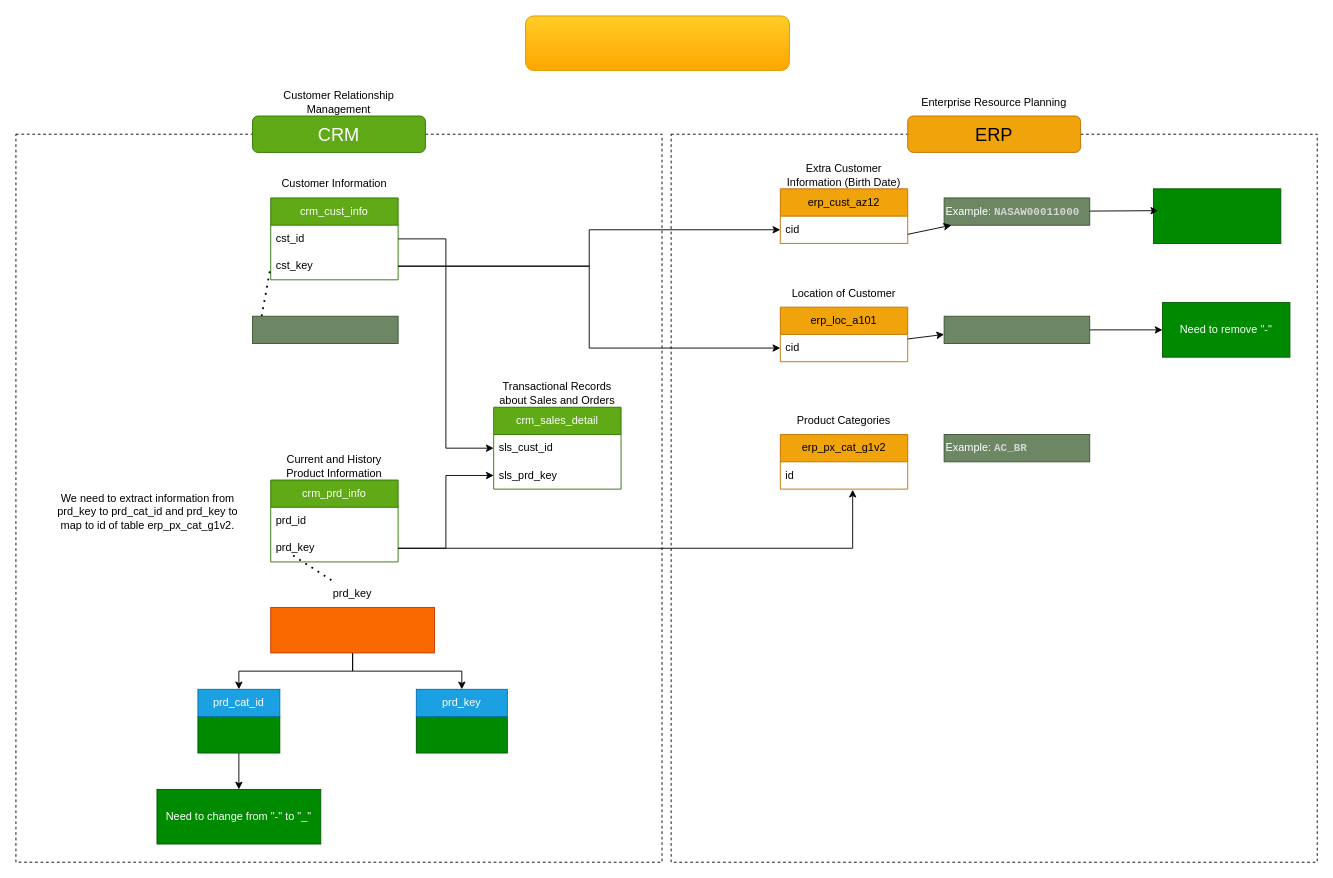
Some shapes in this 1333 by 878 pixel diagram are drawn without their labels. The shapes that lost their labels are listed below. From the top down, each one's centre as x and y in pixels, then its label:
At point 657,43: "Data Integration".
At point 1217,215: "Need to remove NAS".
At point 325,329: "Ví dụ cst_key: AW00011000".
At point 1016,329: "Example: AW-00011000".
At point 352,630: "Example: CO-RF-FR-R92B-58".
At point 238,734: "CO-RF".
At point 461,734: "FR-R92B-58".
